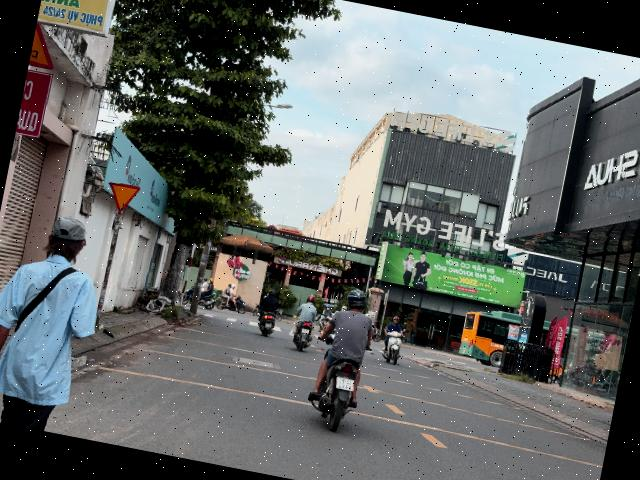giao-nhau-voi-duong-uu-tien: (102, 180, 140, 214)
